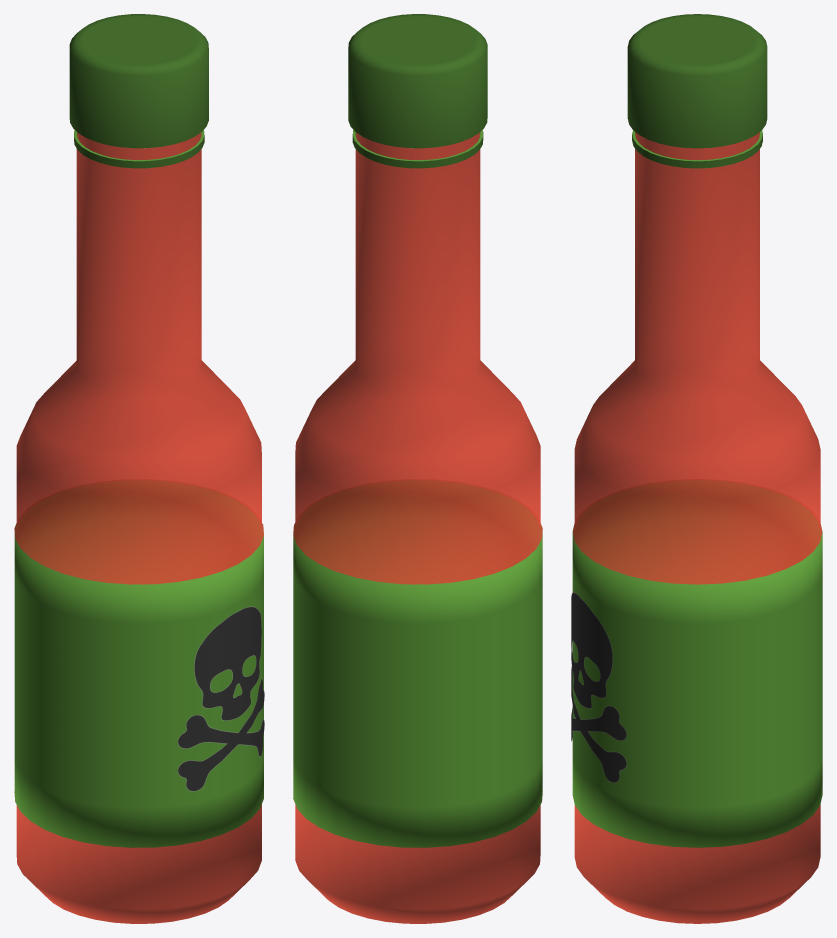
The model's file is sauce.glb.
The picture shows the model from 3 angles, left to right: view 1: azimuth 30°, elevation 25°; view 2: azimuth 150°, elevation 25°; view 3: azimuth 270°, elevation 25°; orthographic projection.
Visible parts, largest first — view 1: Cylinder025, Cylinder025_1, Cylinder025_2, Cylinder025_3; view 2: Cylinder025, Cylinder025_1, Cylinder025_2; view 3: Cylinder025, Cylinder025_1, Cylinder025_2, Cylinder025_3.
Boxes of the visible parts, x1,y1,x2,y2 form: Cylinder025: (14,132,263,923); Cylinder025_1: (14,119,263,847); Cylinder025_2: (69,14,208,168); Cylinder025_3: (177,606,264,791); Cylinder025: (293,132,542,923); Cylinder025_1: (293,127,542,847); Cylinder025_2: (348,14,487,168); Cylinder025: (572,132,822,923); Cylinder025_1: (572,130,822,847); Cylinder025_2: (627,14,767,168); Cylinder025_3: (571,592,626,782).
Bounding box in the file's own units: 0.9116 × 3.38 × 0.9159.
Materials: 4 (1 with a texture image).
